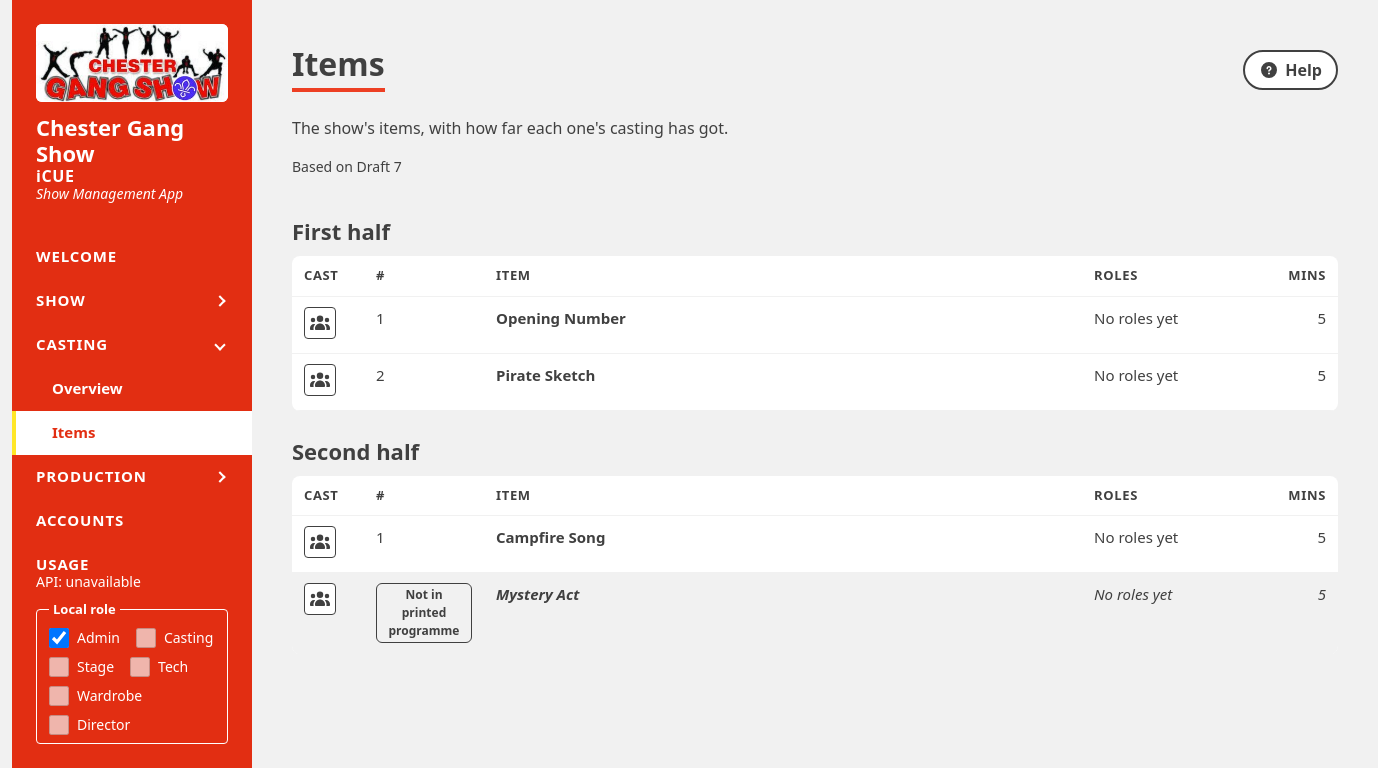
Casting item page › opens from the Items list, showing the item's name and position
Click the link to "/casting/items/pirate-sketch". click: [320, 380]
box: [304,364,336,396]
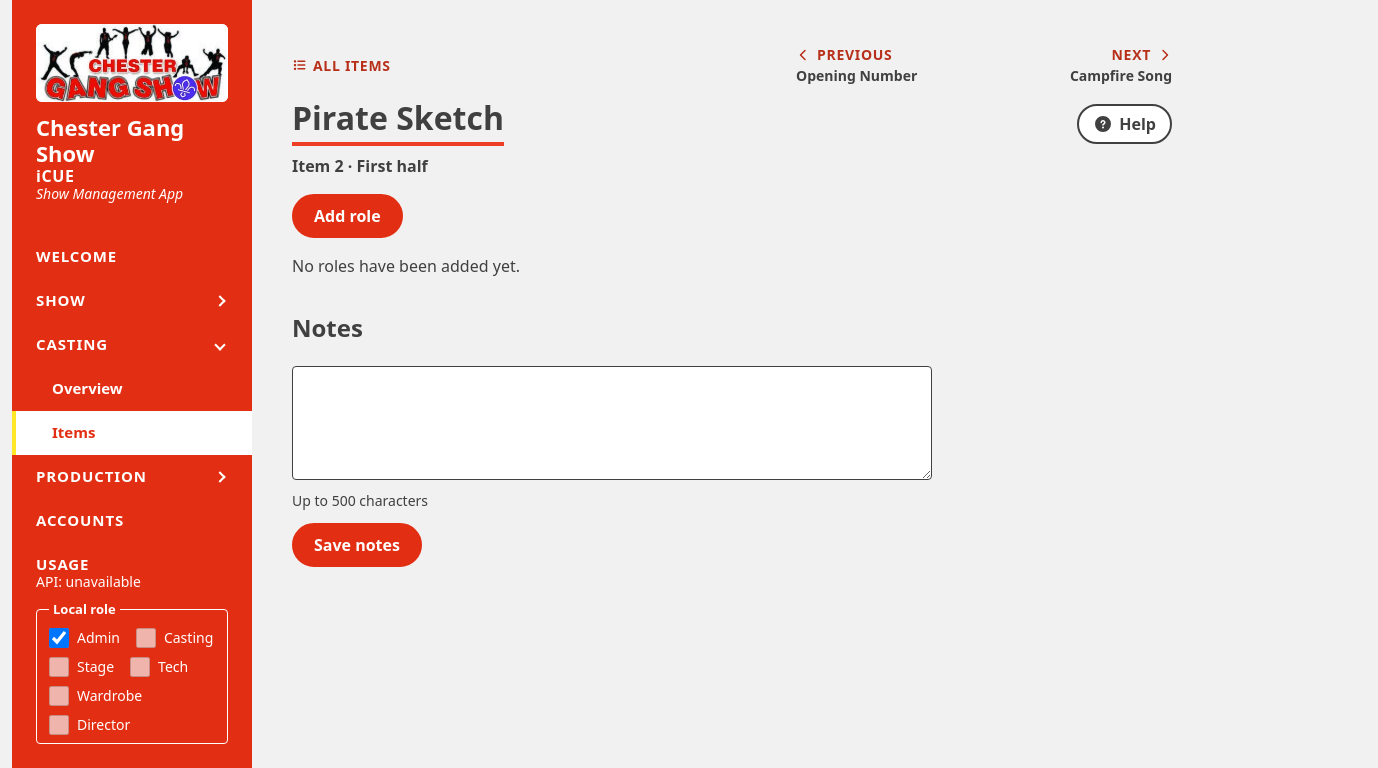
Result: the heading "Pirate Sketch" is shown at [292,94,504,146]
Result: the text with test id "position" reads "Item 2 · First half" at [292,155,428,177]
